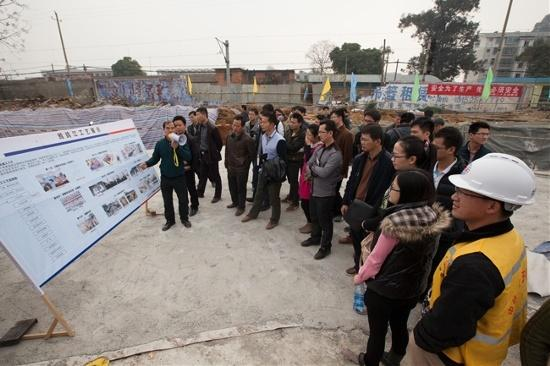Helmet: (450, 154, 538, 219)
NoHelmet: (318, 120, 335, 143), (231, 115, 246, 134)
